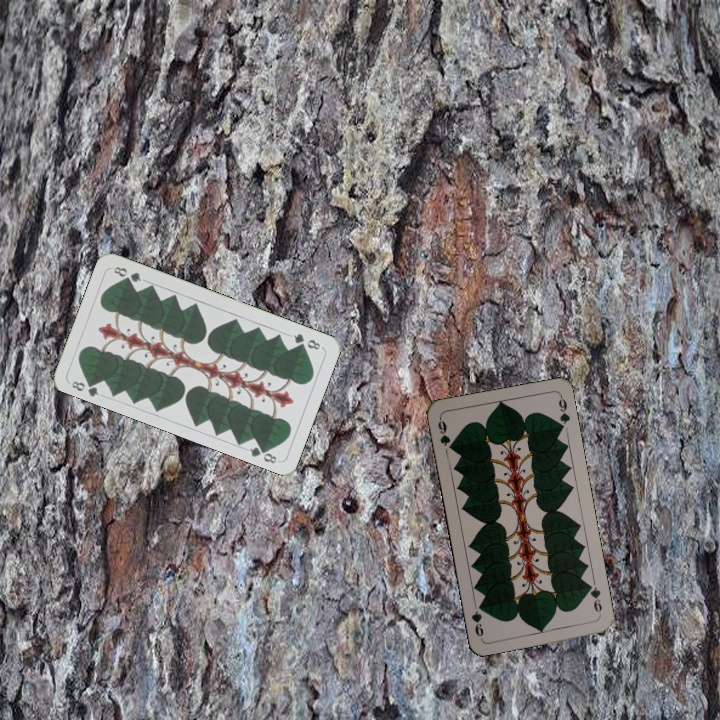G8: (67, 375, 101, 399), (289, 329, 323, 352)
G9: (434, 414, 456, 453), (584, 579, 604, 615)
